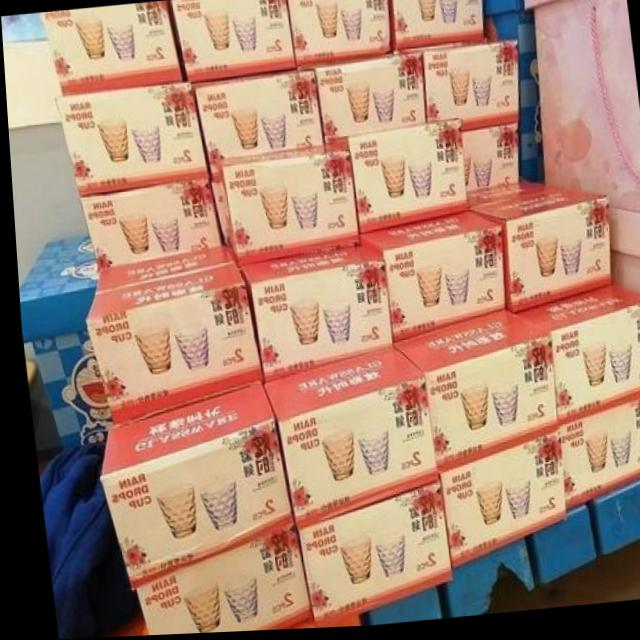box: (94, 384, 289, 589), (257, 351, 431, 530), (82, 264, 257, 428), (388, 314, 553, 480), (524, 0, 640, 217), (288, 480, 445, 623), (233, 246, 390, 382), (15, 232, 106, 449), (465, 184, 607, 317), (357, 214, 501, 345), (506, 288, 640, 428), (128, 534, 304, 636), (431, 435, 560, 573), (53, 84, 207, 195), (216, 146, 357, 266), (324, 126, 466, 236), (76, 178, 221, 269), (41, 4, 181, 97), (191, 69, 321, 167), (481, 0, 544, 189), (299, 54, 426, 141), (397, 43, 516, 134), (172, 0, 298, 84), (552, 402, 640, 515), (286, 0, 390, 71), (92, 248, 233, 295), (387, 0, 483, 54), (459, 127, 518, 197), (606, 211, 640, 299), (207, 164, 230, 250)
